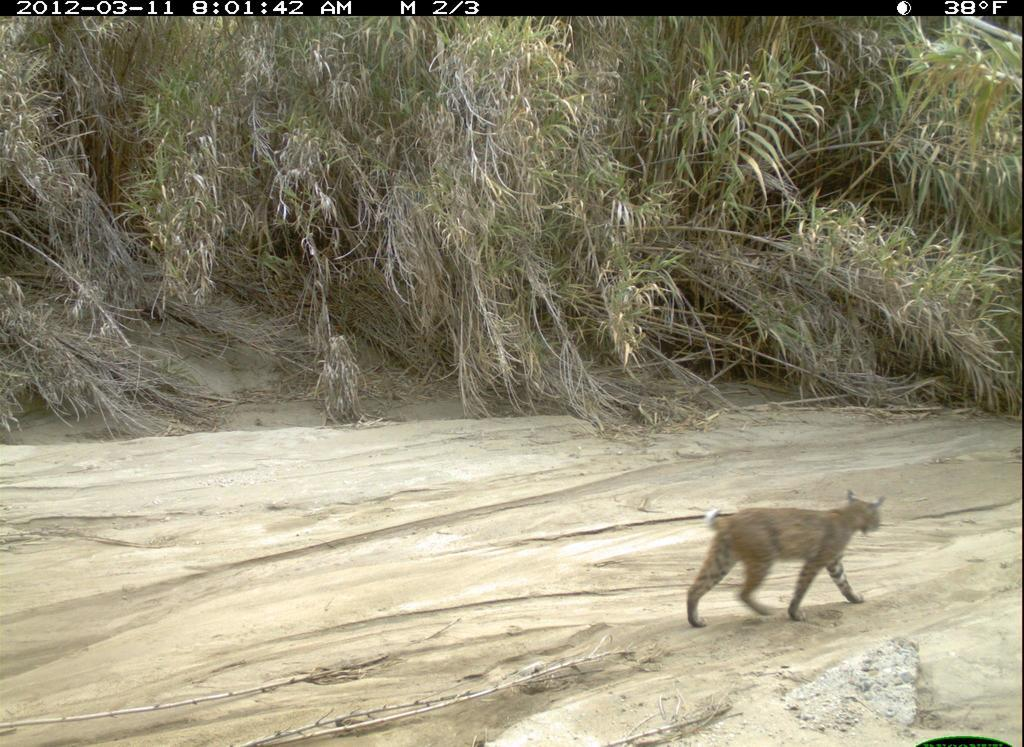bobcat: (679, 483, 891, 637)
